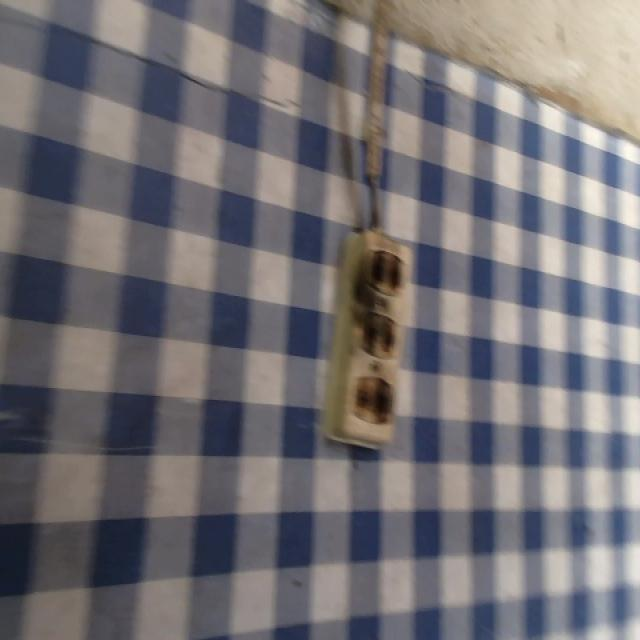-: (352, 373, 394, 424), (368, 245, 404, 298), (361, 308, 396, 359)
